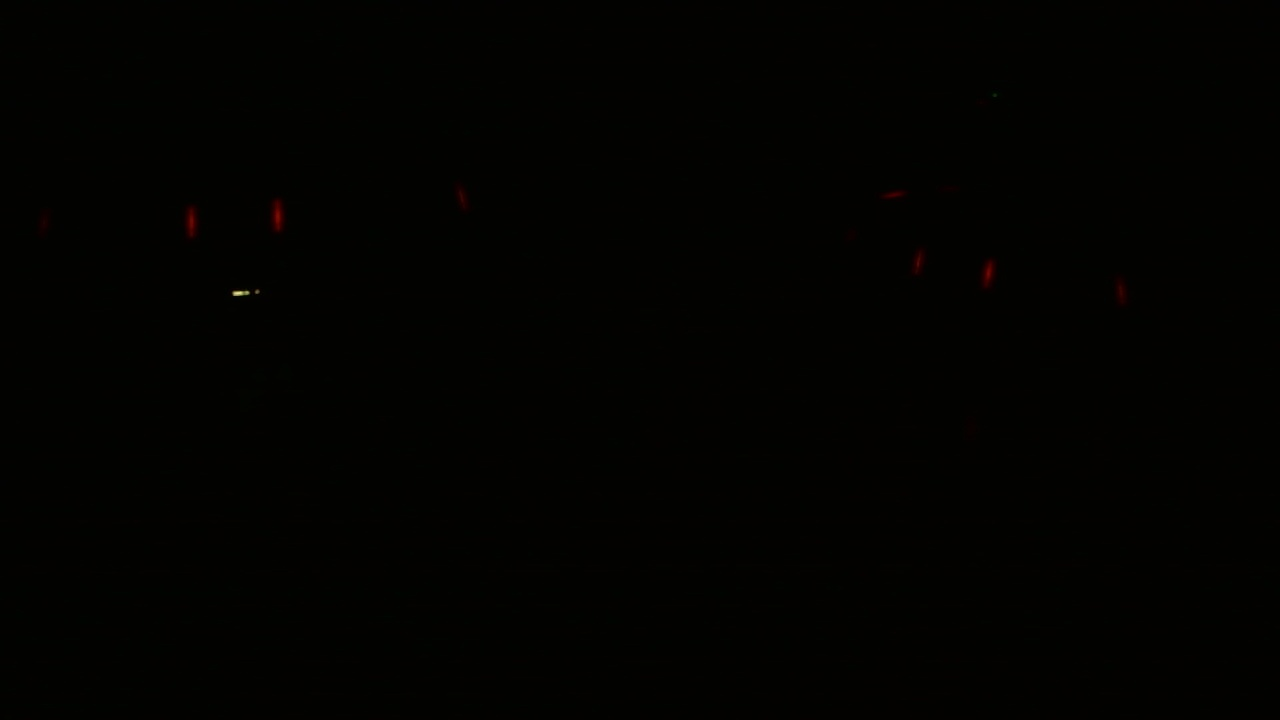pair1: (185, 197, 286, 240), (907, 243, 994, 292)
